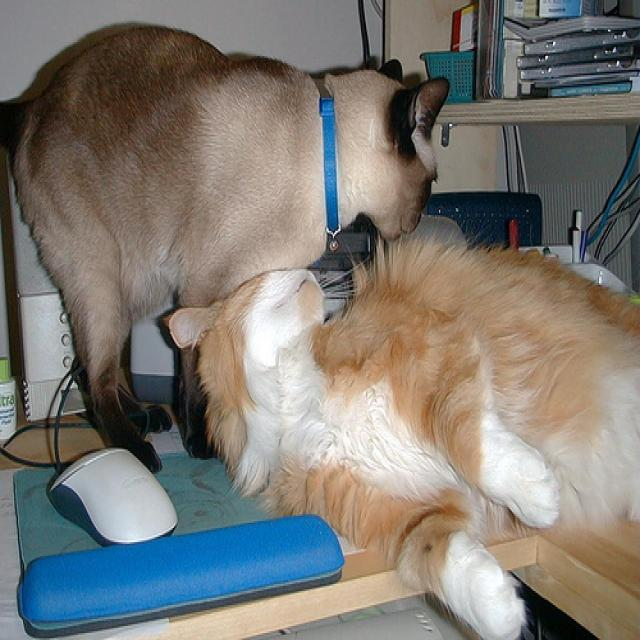cat: (1, 27, 450, 474), (166, 243, 640, 640)
